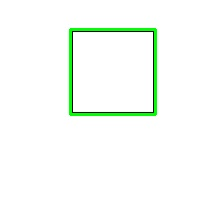line_segment: (70, 28, 157, 116)
